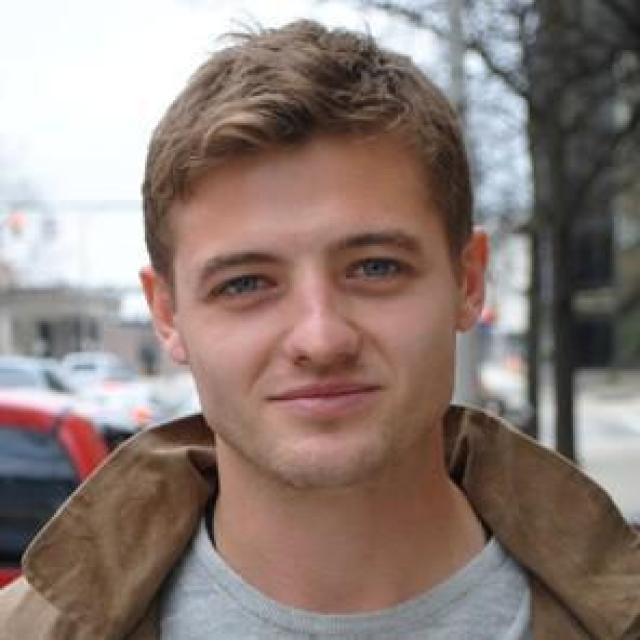0_rostro_limpio: (149, 32, 488, 485)
